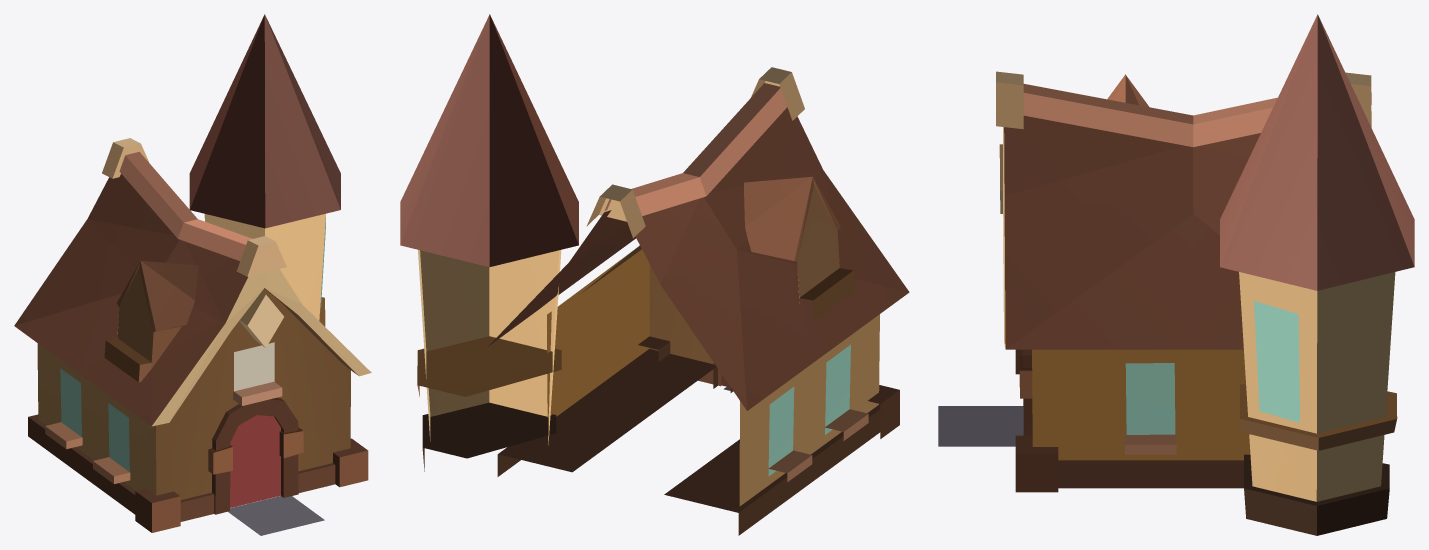
Rendered from building34.fbx.
3 views of the same model, side by side, from view 1: azimuth 30°, elevation 25°; view 2: azimuth 150°, elevation 25°; view 3: azimuth 270°, elevation 25° (orthographic). The views are drawn at different scales.
Parts seen in each view (by area): view 1: building34; view 2: building34; view 3: building34.
Boxes of the visible parts, left/top/right/bottom form: building34: left=14, top=14, right=371, bottom=535; building34: left=400, top=14, right=909, bottom=535; building34: left=938, top=14, right=1414, bottom=535.
Size of the model in its own units: 2.01 by 2.33 by 2.06.
1 material, 1 textured.
